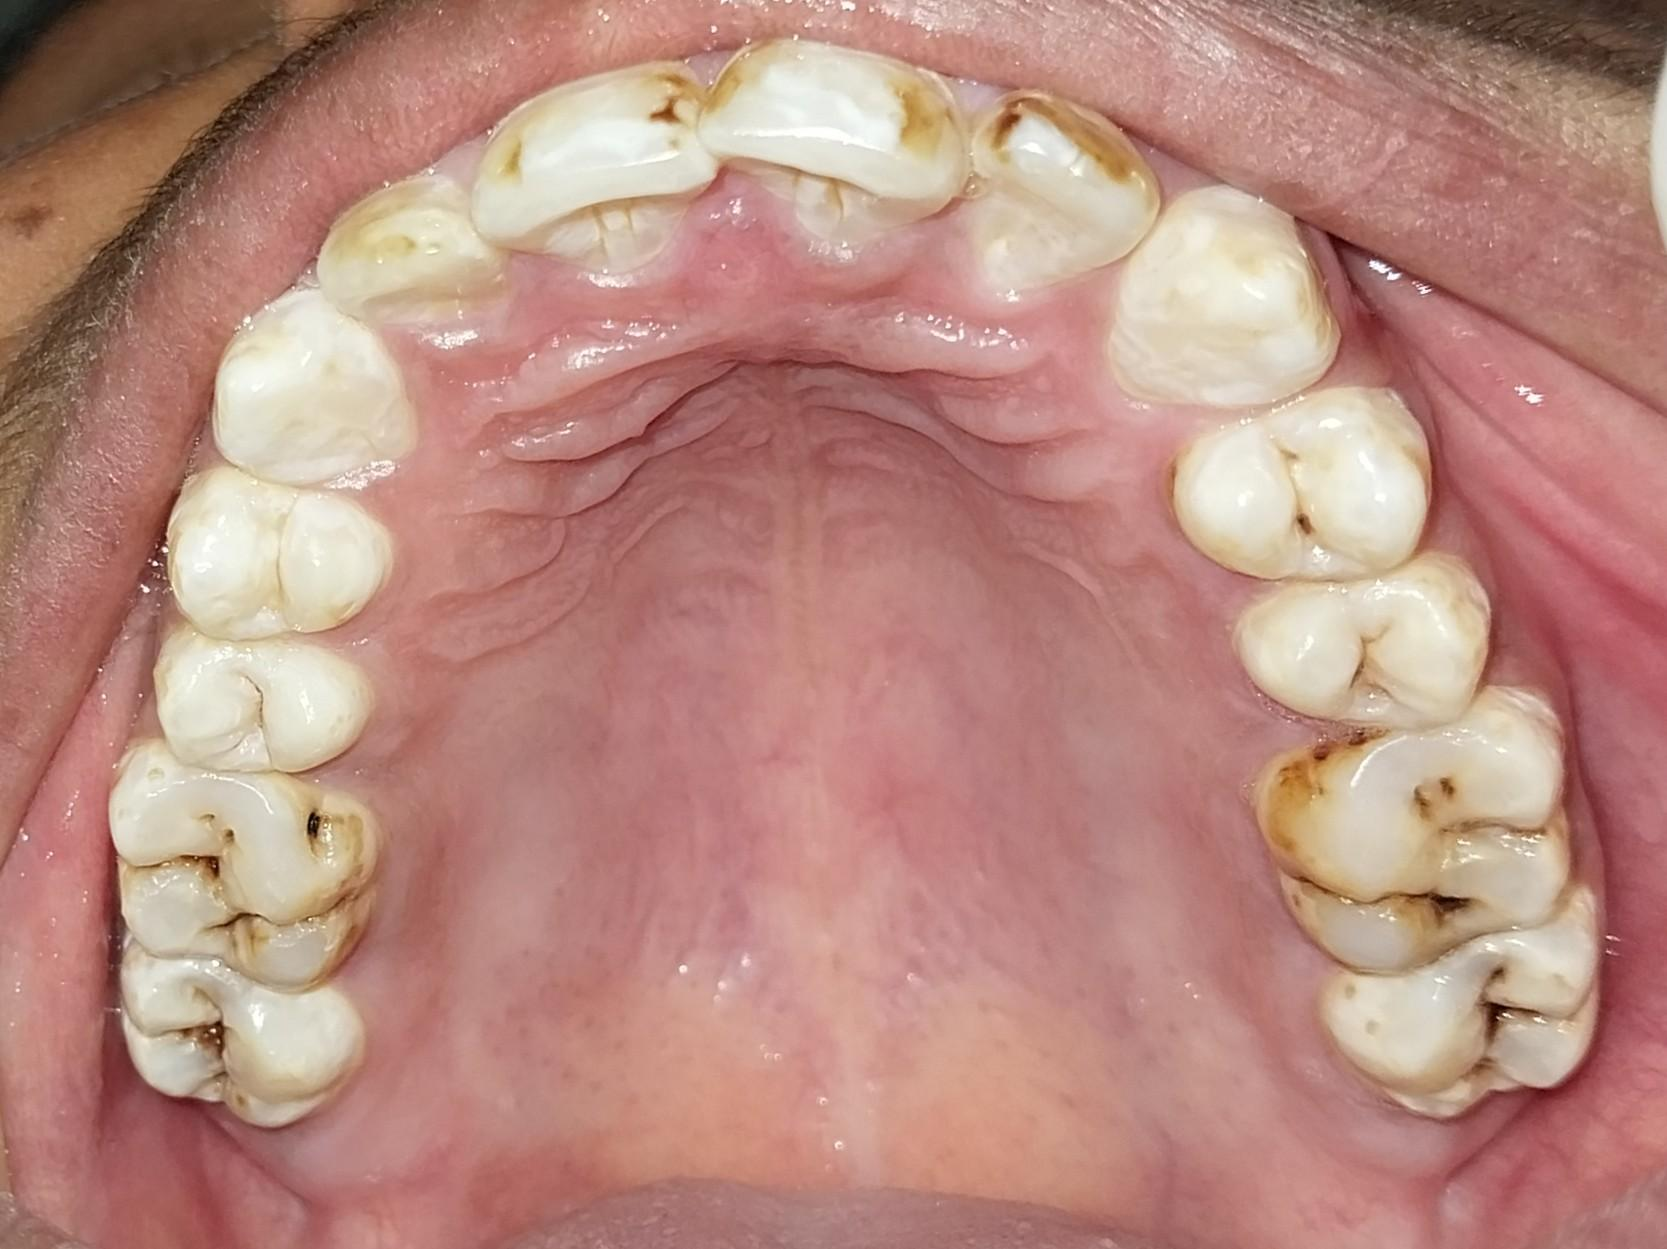D: (1262, 690, 1574, 980), (107, 754, 369, 997), (1320, 907, 1603, 1117), (1173, 390, 1430, 583), (117, 940, 349, 1128), (1234, 555, 1487, 728)
